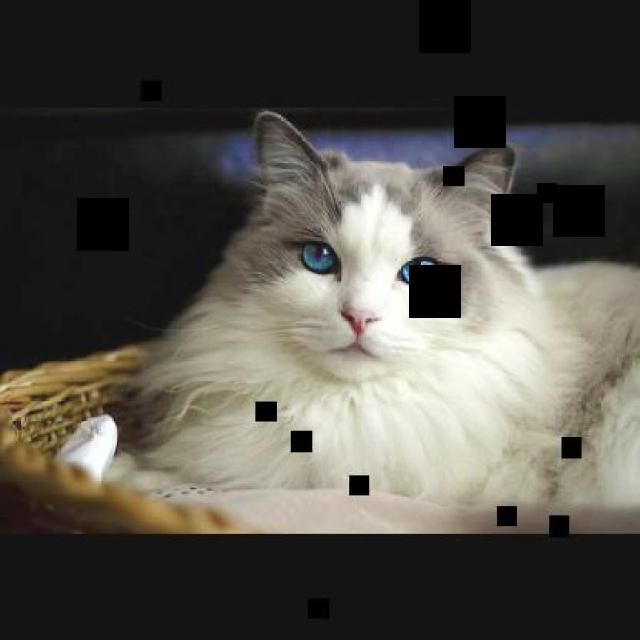unauthorized: (104, 108, 638, 509)
